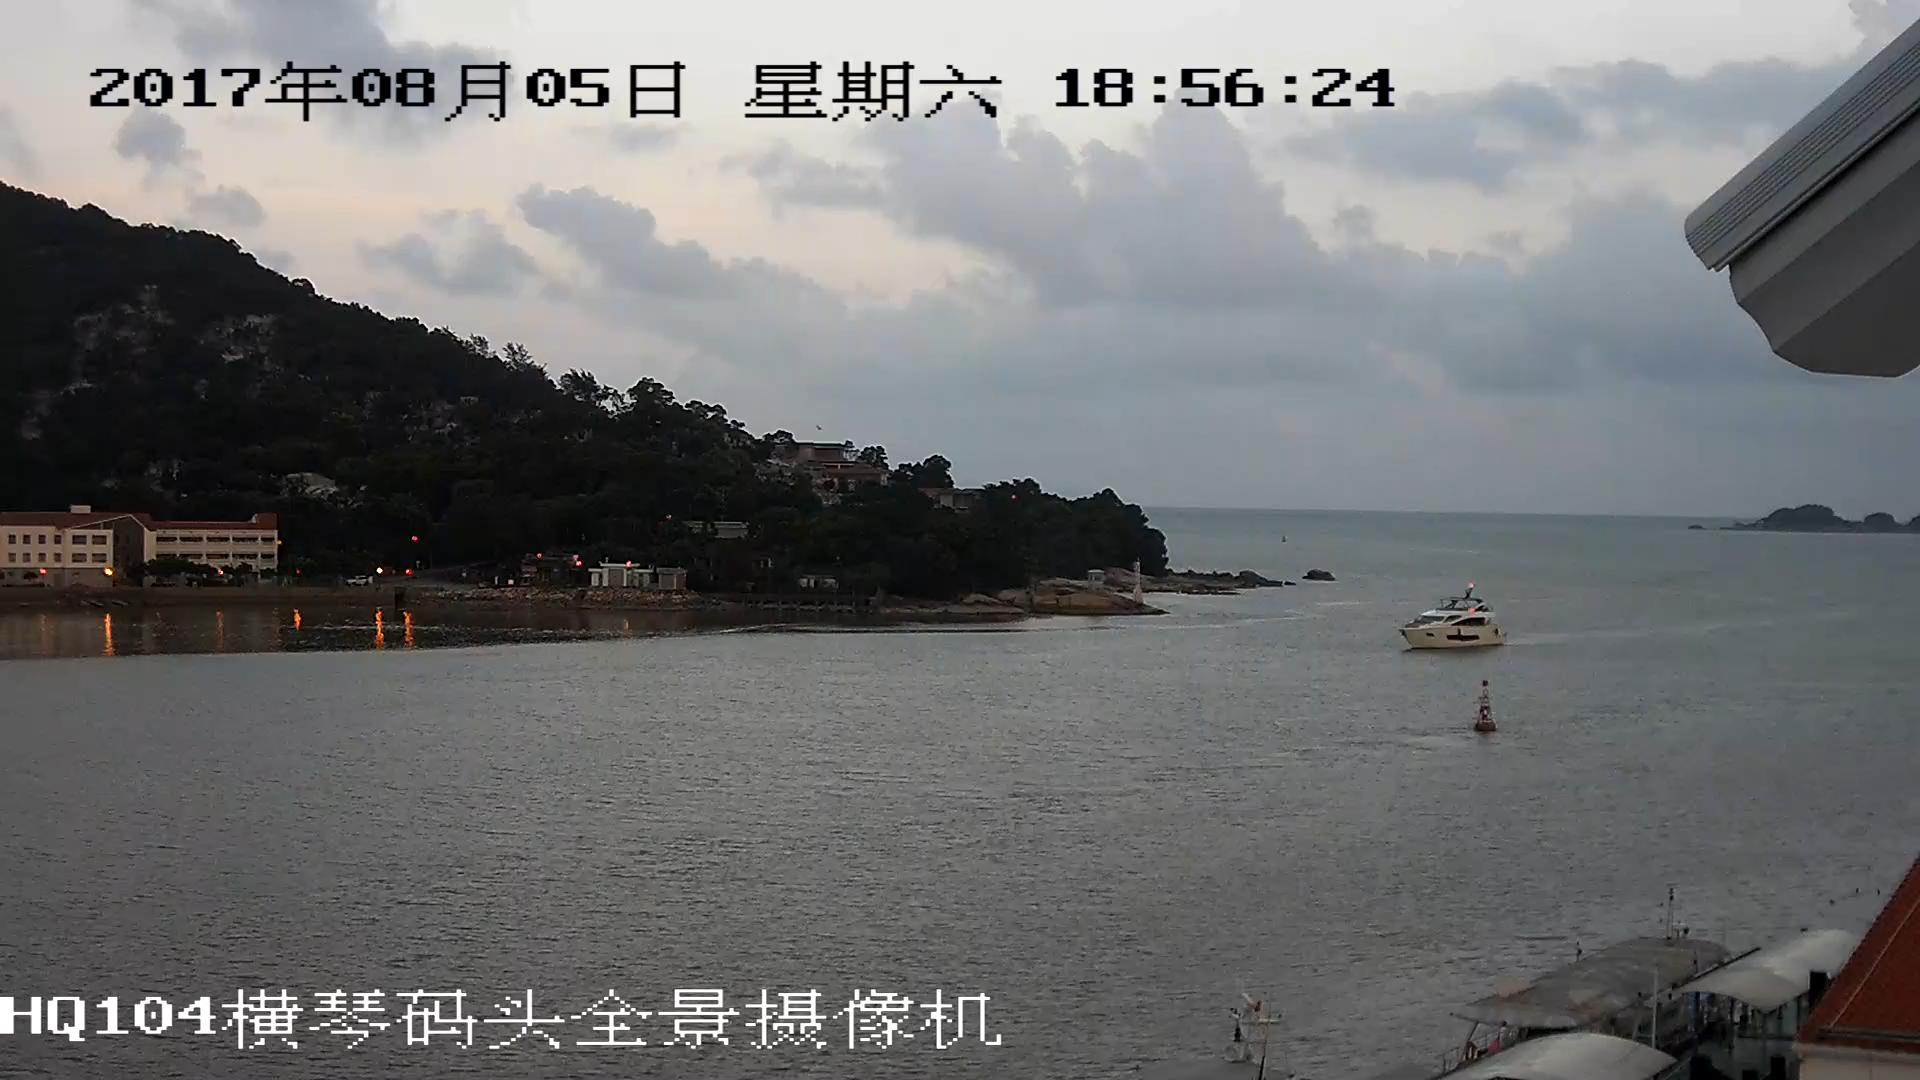passenger ship: (1398, 588, 1504, 649)
